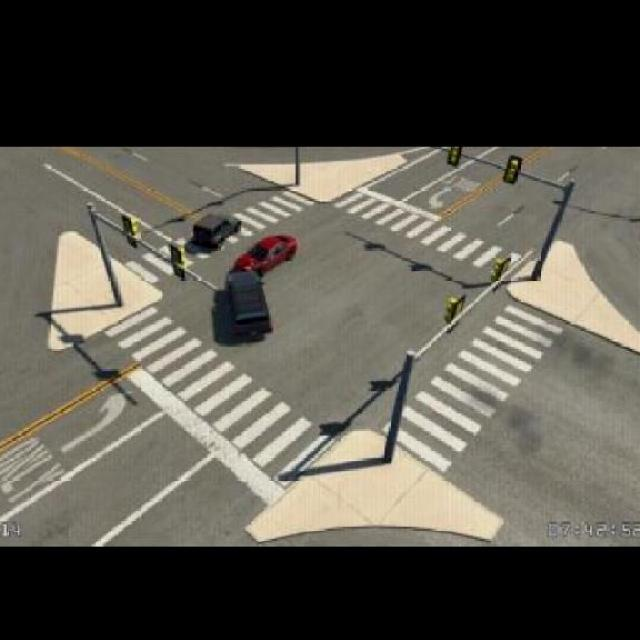accident: (218, 241, 266, 291)
